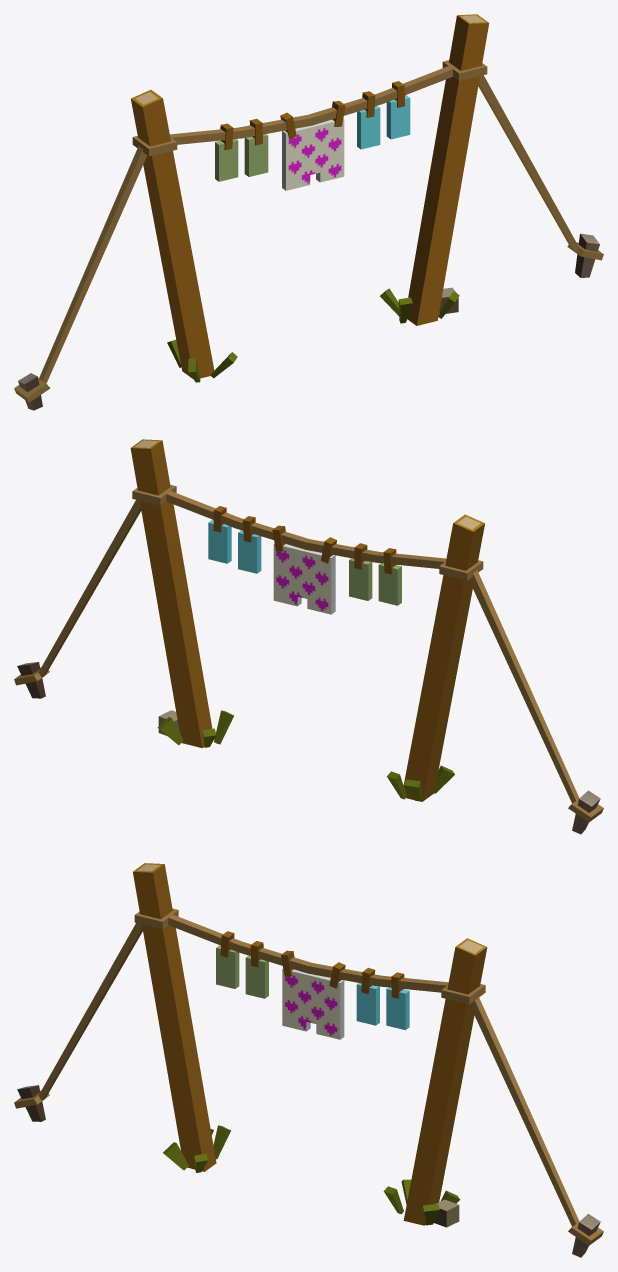
The model's file is Washingline.gltf.
3 views of the same model, one above another, from view 1: azimuth 30°, elevation 25°; view 2: azimuth 150°, elevation 25°; view 3: azimuth 330°, elevation 25° (orthographic).
Parts seen in each view (by area): view 1: SF_Prop_Washingline_01; view 2: SF_Prop_Washingline_01; view 3: SF_Prop_Washingline_01.
Boxes of the visible parts, bbox=[...] form: SF_Prop_Washingline_01: bbox=[14, 14, 603, 410]; SF_Prop_Washingline_01: bbox=[14, 439, 603, 834]; SF_Prop_Washingline_01: bbox=[14, 863, 603, 1257].
Size of the model in its own units: 0.0749 by 0.0359 by 0.00834.
Materials: 1 (1 with a texture image).
